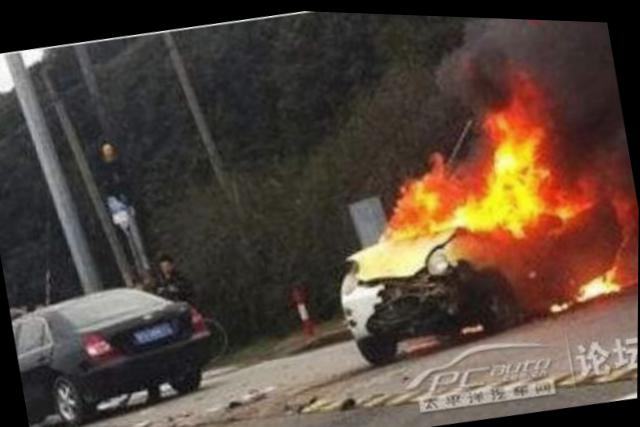fire: (333, 64, 639, 352)
